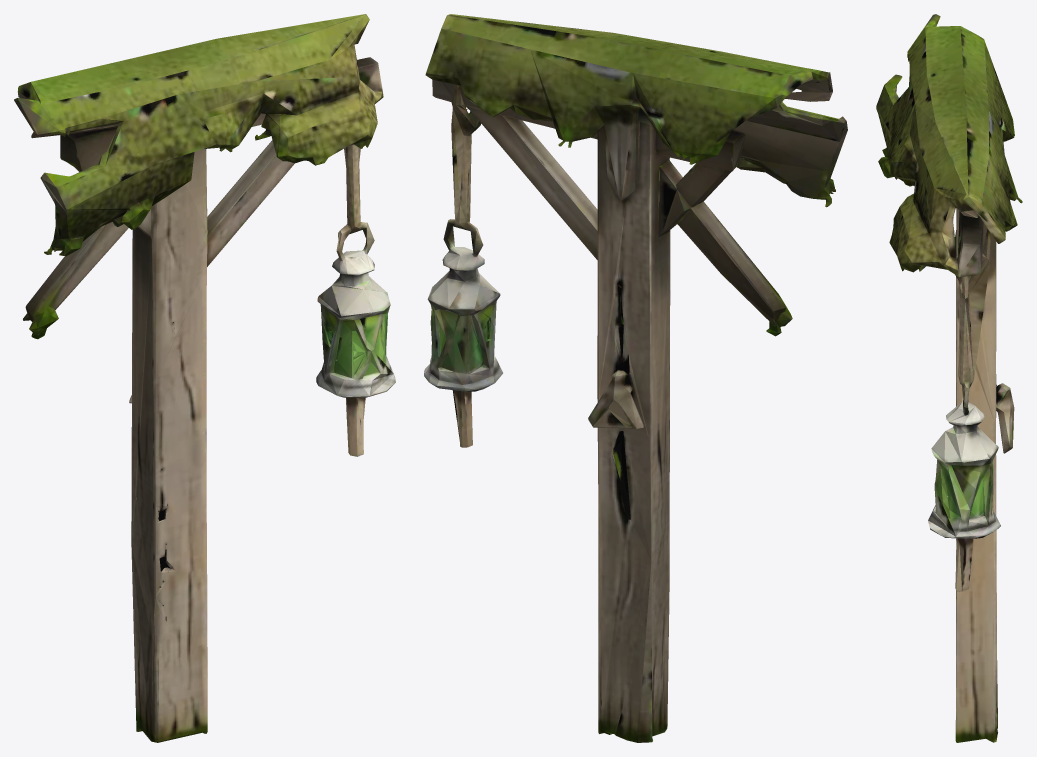
Rendered from fen_lantern_post_01.glb.
3 views of the same model, side by side, from view 1: azimuth 30°, elevation 25°; view 2: azimuth 150°, elevation 25°; view 3: azimuth 270°, elevation 25° (orthographic). The views are drawn at different scales.
Visible parts, largest first — view 1: geometry_0; view 2: geometry_0; view 3: geometry_0.
Boxes of the visible parts, x1,y1,x2,y2 form: geometry_0: (14, 14, 395, 742); geometry_0: (424, 14, 847, 742); geometry_0: (876, 14, 1022, 742).
Bounding box in the file's own units: 0.586 × 0.9984 × 0.2077.
Materials: 1 (1 with a texture image).
